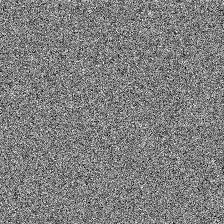cavities: (48, 66, 101, 124)
